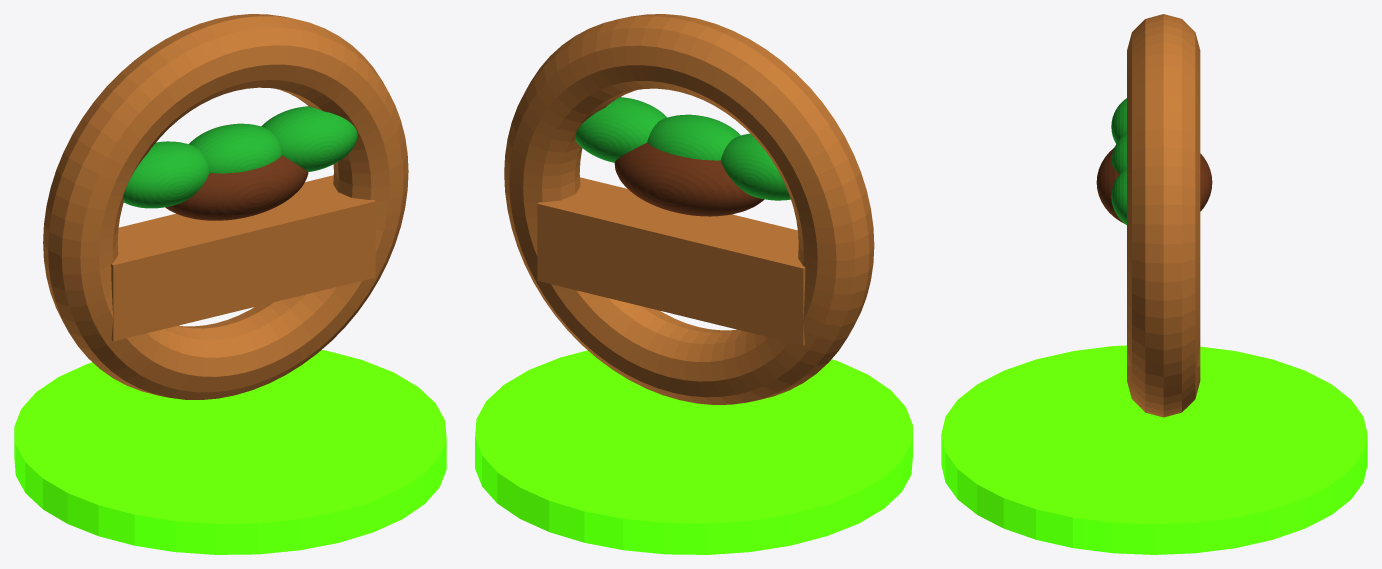
File: food_taco.dae
3 views of the same model, side by side, from view 1: azimuth 30°, elevation 25°; view 2: azimuth 150°, elevation 25°; view 3: azimuth 270°, elevation 25° (orthographic). The views are drawn at different scales.
Visible parts, largest first — view 1: 01_05_Popular_Food_Taco_ROOT_base, 01_05_Popular_Food_Taco_part_01, 01_05_Popular_Food_Taco_part_02, 01_05_Popular_Food_Taco_part_06, 01_05_Popular_Food_Taco_part_03, 01_05_Popular_Food_Taco_part_05, 01_05_Popular_Food_Taco_part_04; view 2: 01_05_Popular_Food_Taco_ROOT_base, 01_05_Popular_Food_Taco_part_01, 01_05_Popular_Food_Taco_part_02, 01_05_Popular_Food_Taco_part_06, 01_05_Popular_Food_Taco_part_05, 01_05_Popular_Food_Taco_part_04, 01_05_Popular_Food_Taco_part_03; view 3: 01_05_Popular_Food_Taco_ROOT_base, 01_05_Popular_Food_Taco_part_01, 01_05_Popular_Food_Taco_part_06, 01_05_Popular_Food_Taco_part_05.
Boxes of the visible parts, box(x1,y1,x2,y2) form: 01_05_Popular_Food_Taco_ROOT_base: box(14, 350, 446, 554); 01_05_Popular_Food_Taco_part_01: box(43, 14, 408, 399); 01_05_Popular_Food_Taco_part_02: box(111, 175, 375, 341); 01_05_Popular_Food_Taco_part_06: box(165, 155, 308, 220); 01_05_Popular_Food_Taco_part_03: box(123, 141, 209, 208); 01_05_Popular_Food_Taco_part_05: box(261, 106, 357, 171); 01_05_Popular_Food_Taco_part_04: box(189, 123, 281, 173); 01_05_Popular_Food_Taco_ROOT_base: box(475, 350, 912, 554); 01_05_Popular_Food_Taco_part_01: box(504, 14, 874, 404); 01_05_Popular_Food_Taco_part_02: box(537, 177, 805, 345); 01_05_Popular_Food_Taco_part_06: box(614, 142, 764, 216); 01_05_Popular_Food_Taco_part_05: box(575, 97, 666, 162); 01_05_Popular_Food_Taco_part_04: box(647, 114, 740, 160); 01_05_Popular_Food_Taco_part_03: box(721, 133, 790, 200); 01_05_Popular_Food_Taco_ROOT_base: box(941, 345, 1367, 554); 01_05_Popular_Food_Taco_part_01: box(1127, 14, 1200, 417); 01_05_Popular_Food_Taco_part_06: box(1096, 148, 1212, 223); 01_05_Popular_Food_Taco_part_05: box(1111, 168, 1126, 224).
Size of the model in its own units: 0.76 by 0.85 by 0.76.
